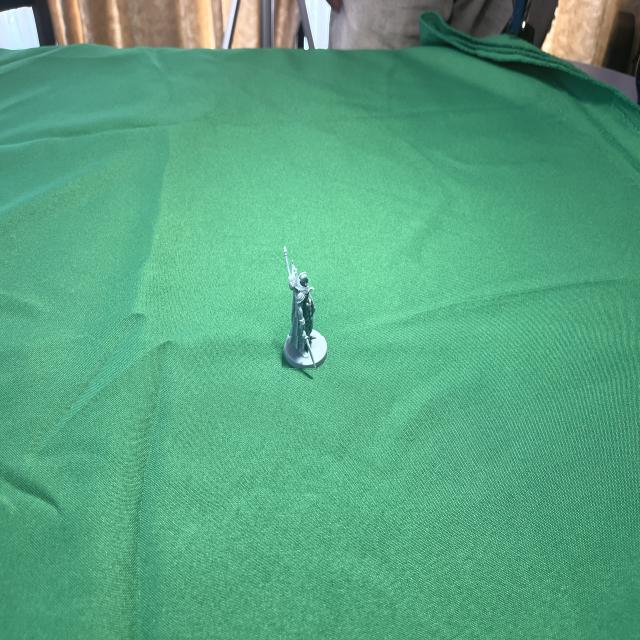isis_follower: (282, 246, 328, 370)
